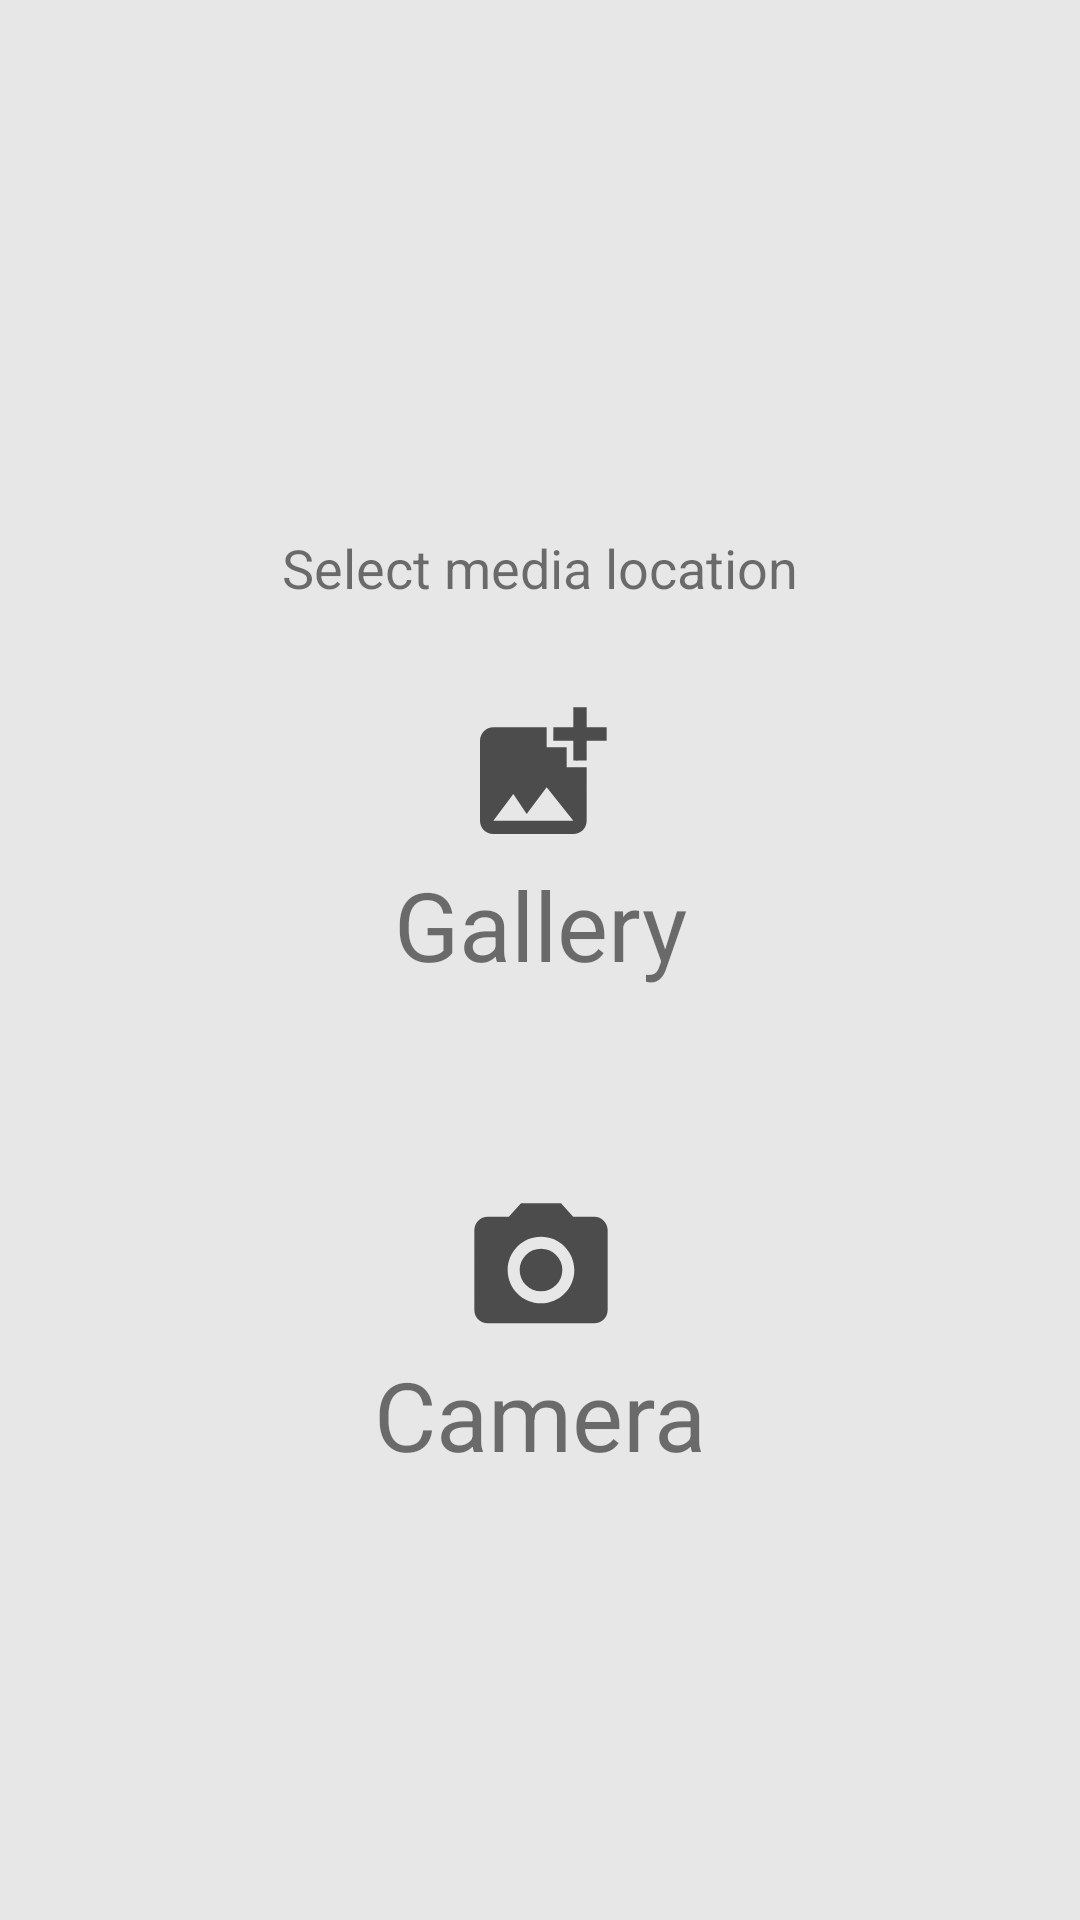

Named icons in this screenshot (1080×1920) and their bounding boxes, (x1, y1, x2, y2):
add photo alternate: (480, 707, 607, 834)
